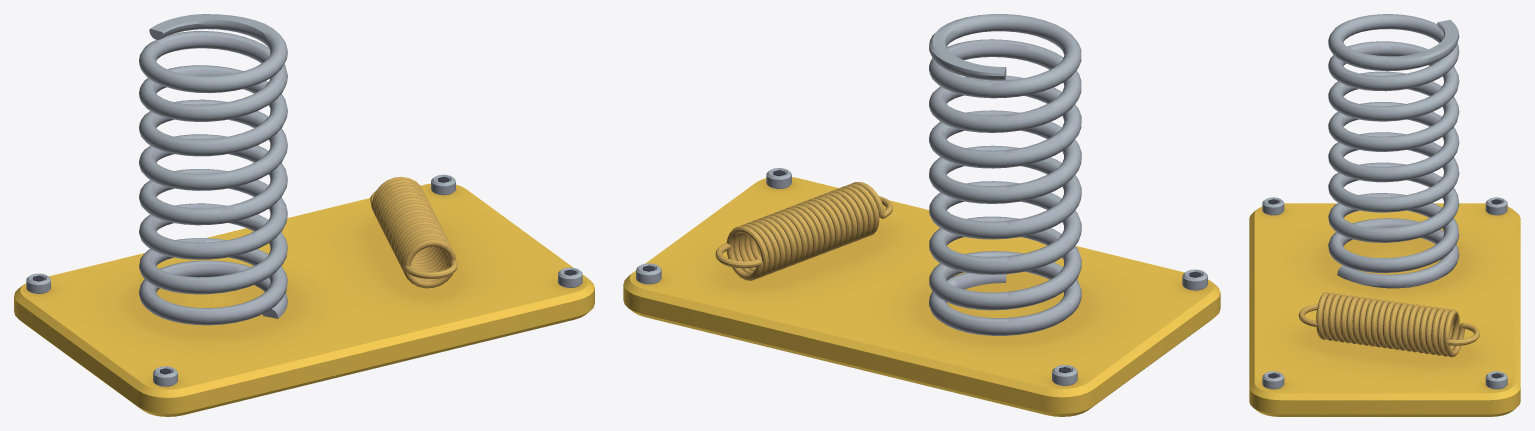
File: coil-wire.glb
3 views of the same model, side by side, from view 1: azimuth 30°, elevation 25°; view 2: azimuth 150°, elevation 25°; view 3: azimuth 270°, elevation 25° (orthographic). The views are drawn at different scales.
Visible parts, largest first — view 1: coil-spring_body; view 2: coil-spring_body; view 3: coil-spring_body.
Boxes of the visible parts, left/top/right/bottom form: coil-spring_body: left=14, top=14, right=594, bottom=416; coil-spring_body: left=623, top=14, right=1220, bottom=416; coil-spring_body: left=1249, top=14, right=1520, bottom=416.
Size of the model in its own units: 0.21 by 0.127 by 0.124.
Materials: 1 (1 with a texture image).
